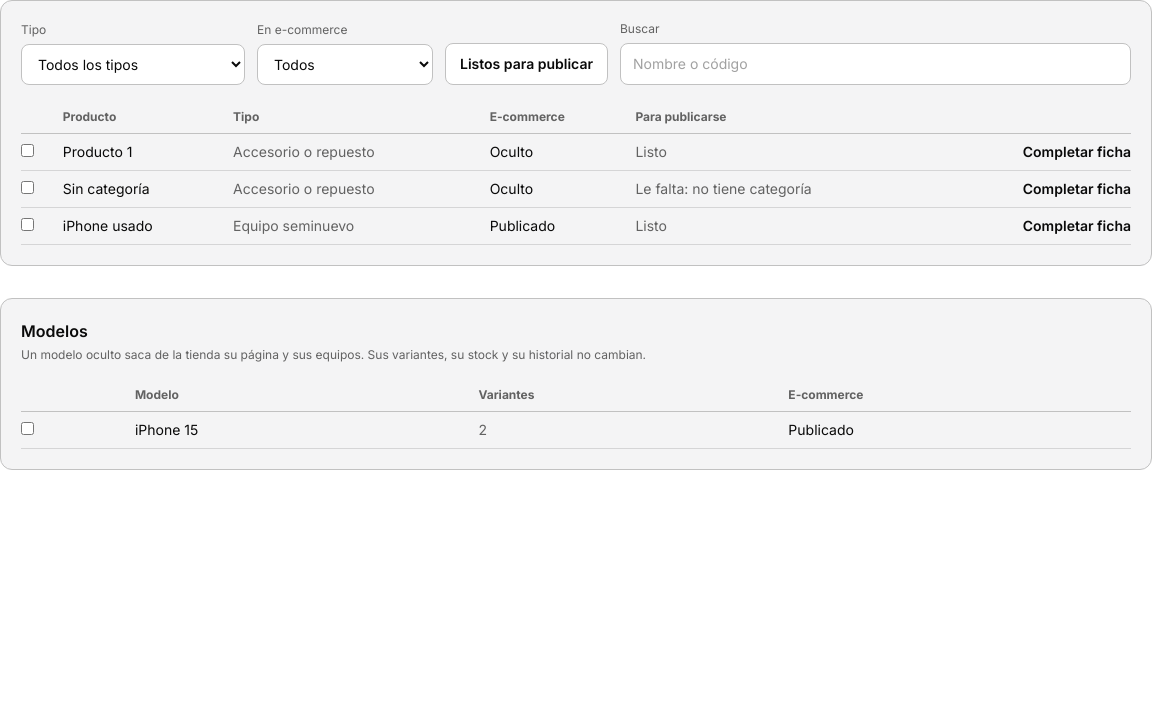
Test: Publicación e-commerce › publica los marcados con la acción en bloque de siempre y dice los que no
Expected: the table named "Productos y variantes" is shown, [21,101,1131,245]
Click the checkbox named "Seleccionar Producto 1": (28, 150) [21,144,34,157]
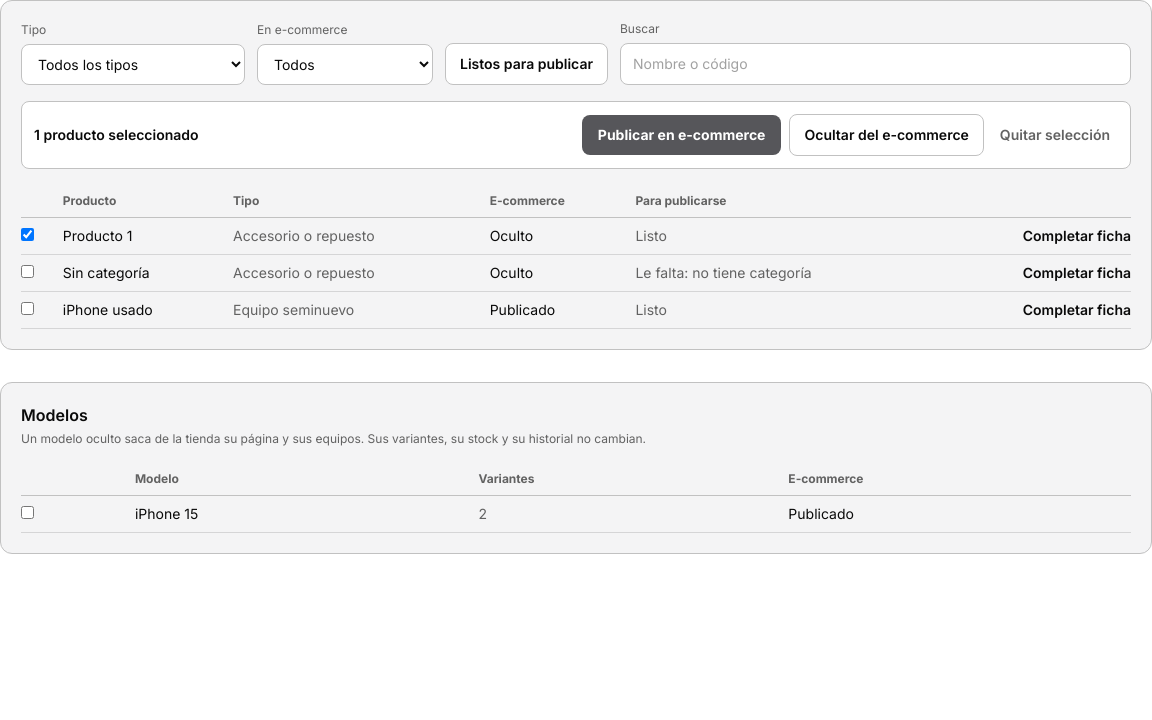
Click the checkbox named "Seleccionar Sin categoría": (28, 272) [21,265,34,278]
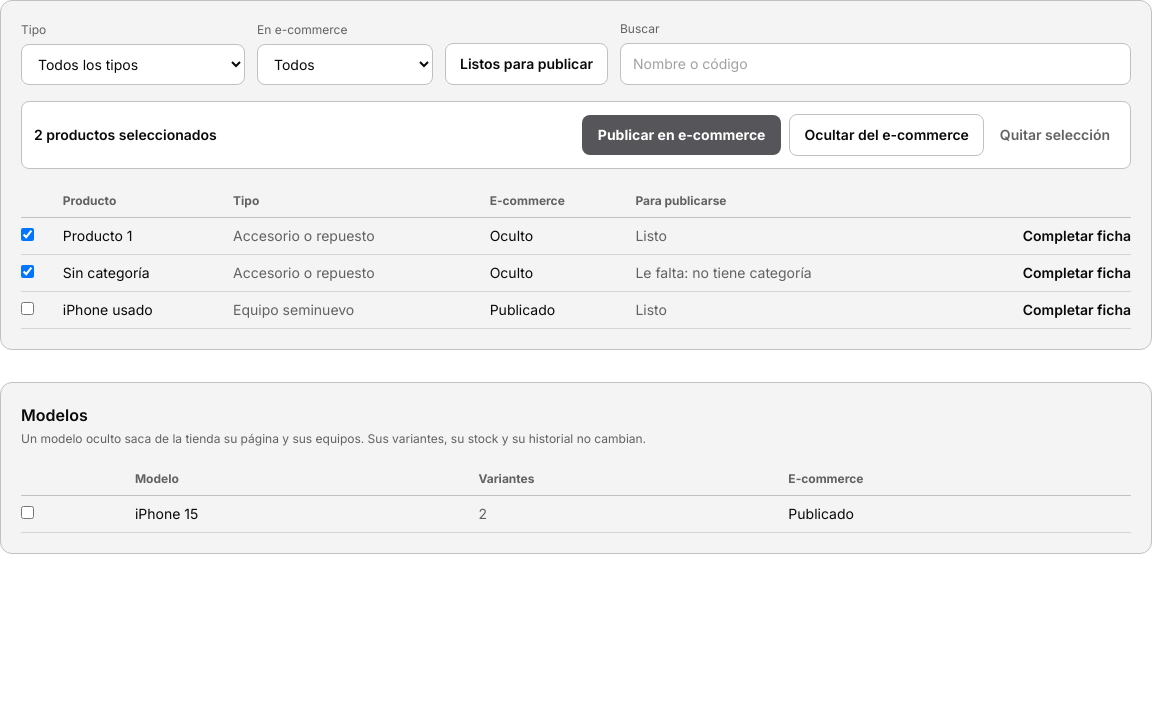
Click the button "Publicar en e-commerce": (682, 135) [582,115,781,155]
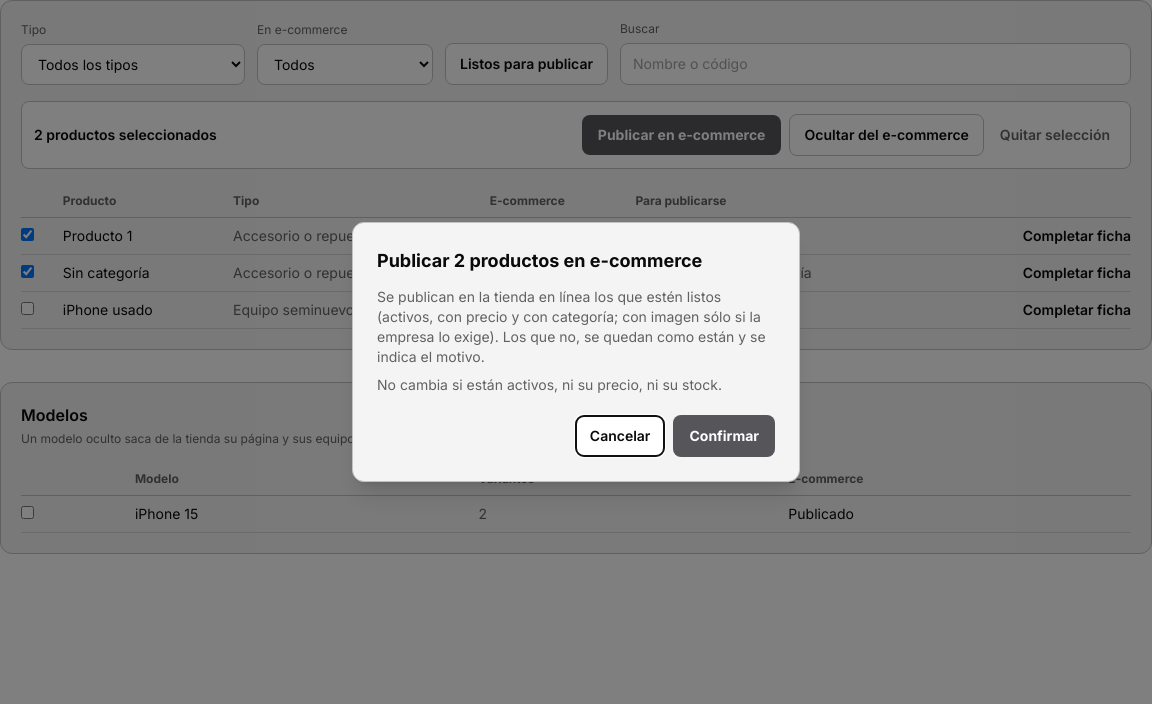
Click the button "Confirmar": (724, 436) [673,415,775,457]
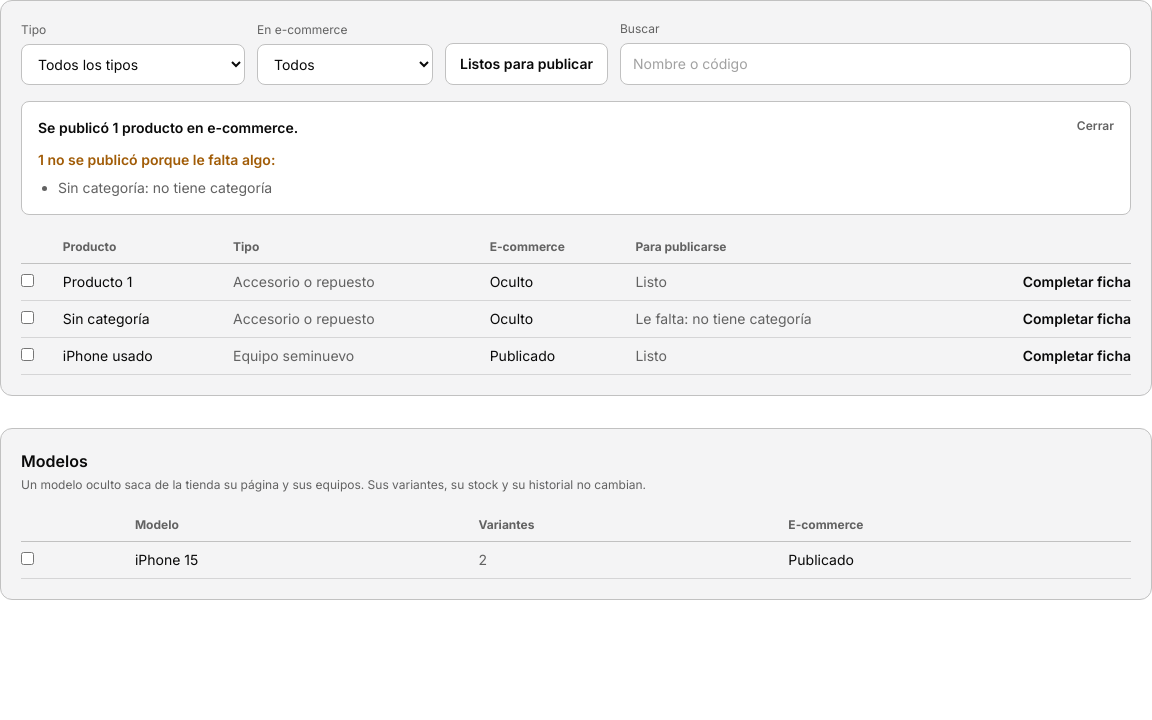
Now the text "1 no se publicó porque le falta algo:" is shown, box [38,151,275,168]
